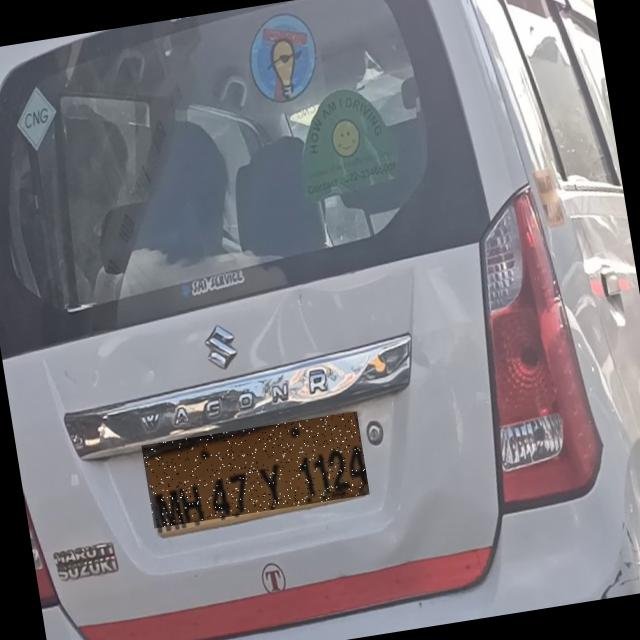Plate: (143, 413, 371, 530)
